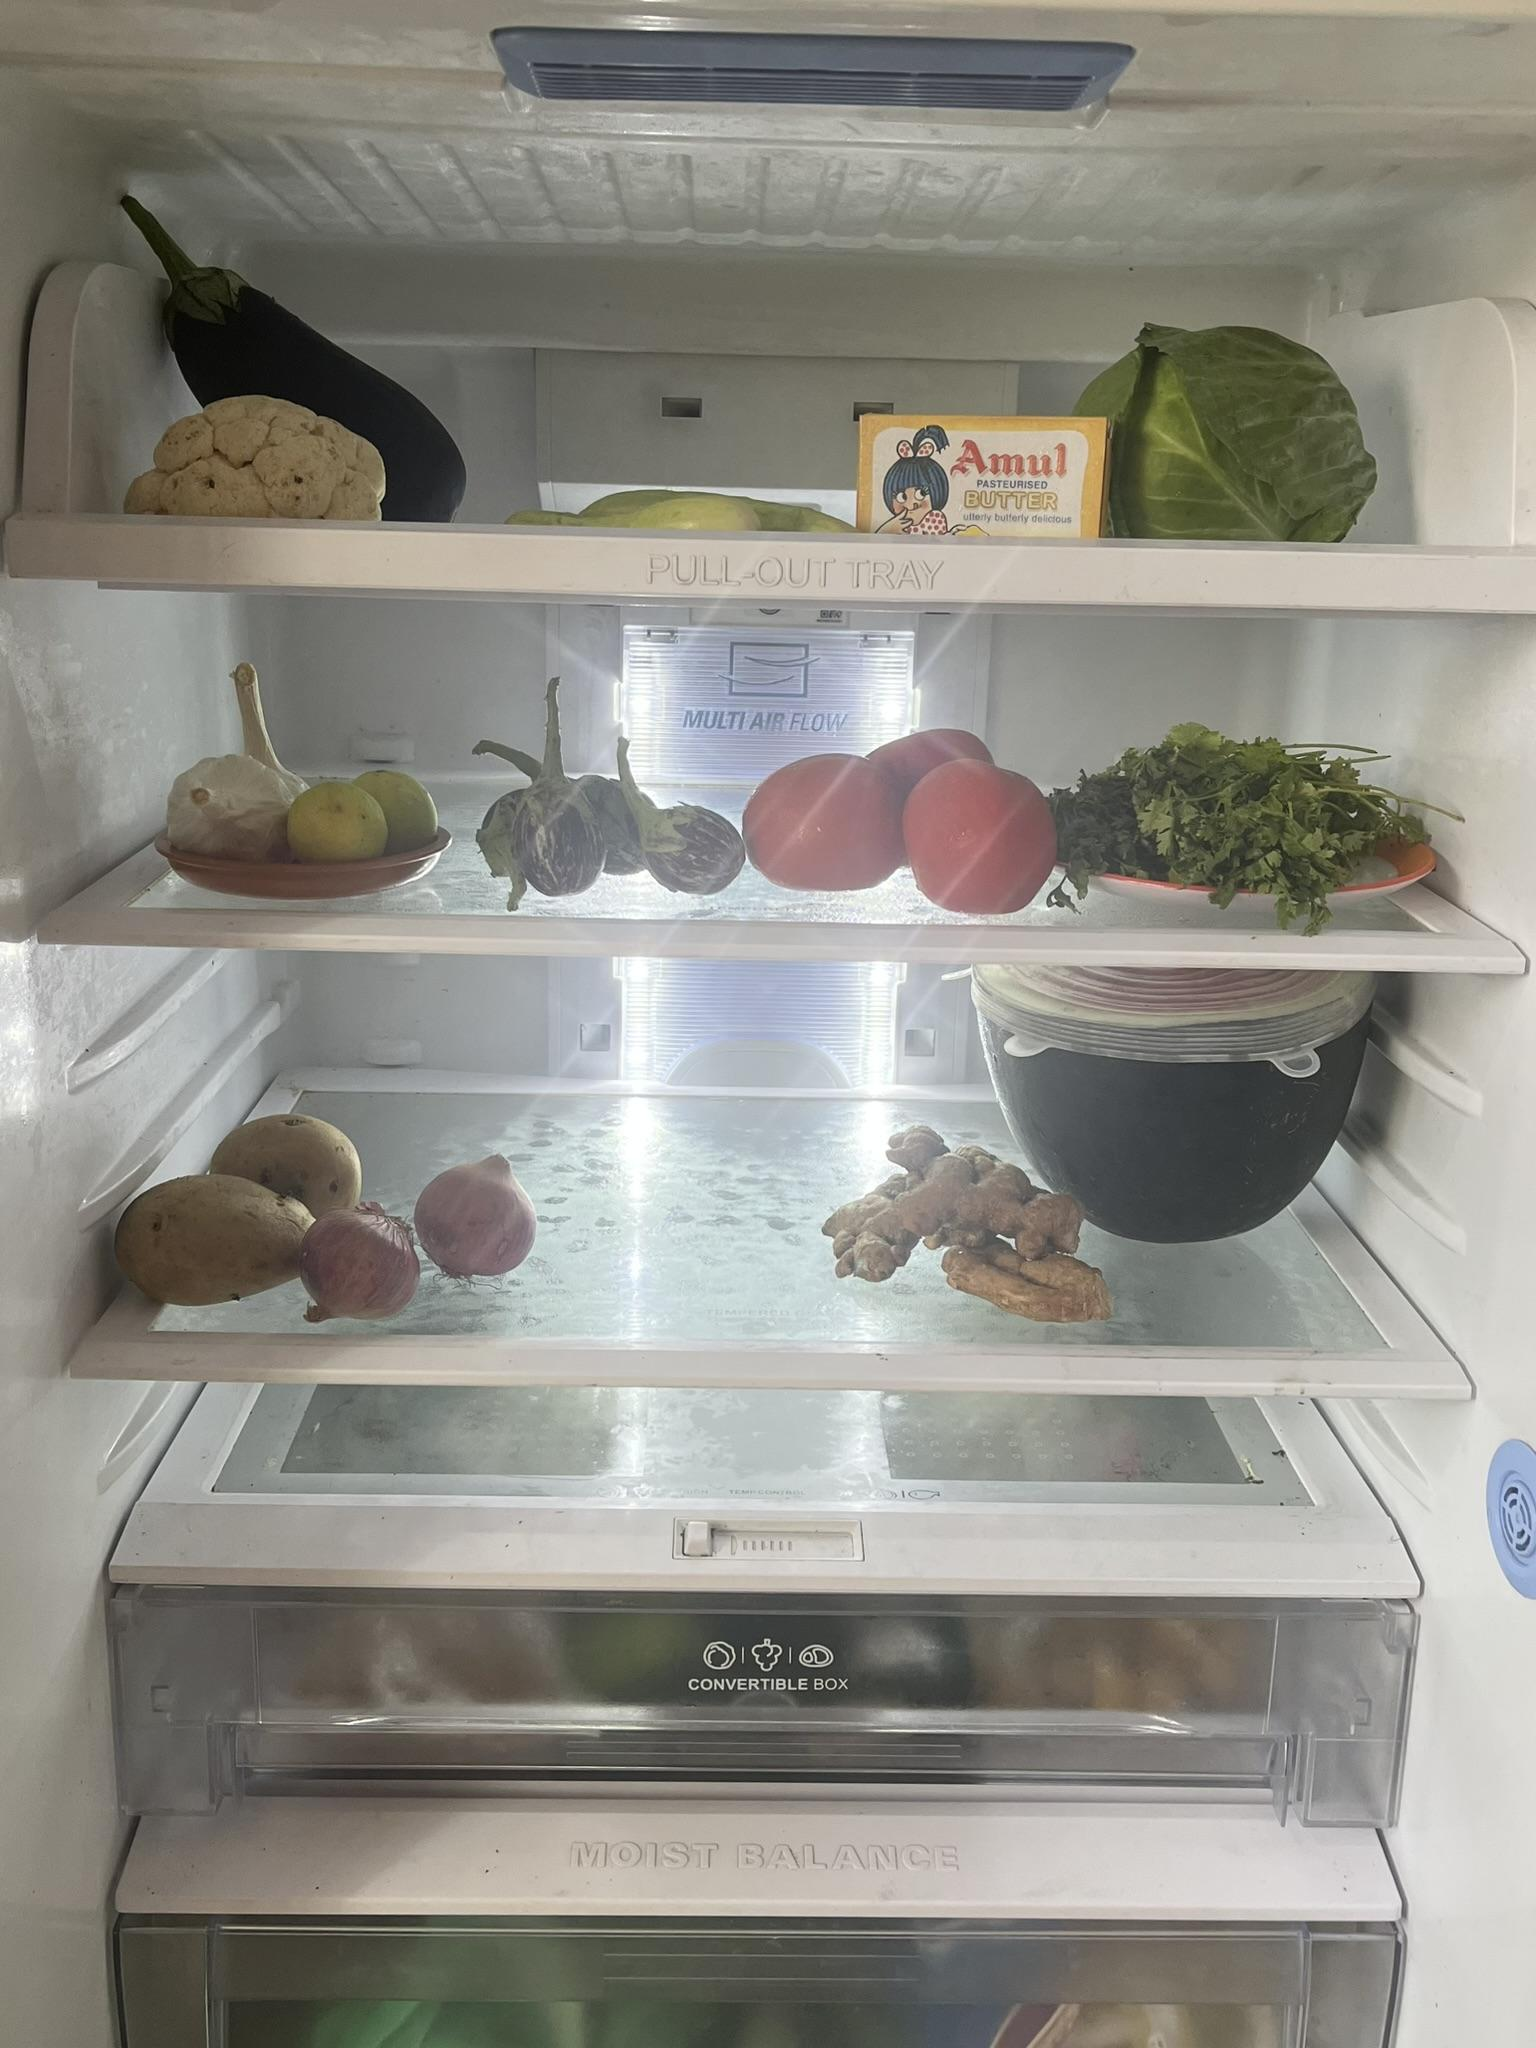bringal: (102, 202, 478, 495), (452, 697, 765, 892)
butter: (866, 411, 1097, 545)
cabbage: (1071, 321, 1363, 539)
cauliflower: (132, 392, 390, 519)
coriander: (1076, 742, 1394, 892)
garlic: (161, 682, 302, 860)
ginger: (847, 1142, 1107, 1313)
lemon: (292, 772, 431, 850)
onion: (297, 1151, 526, 1322)
potato: (127, 1101, 361, 1297)
tomato: (757, 732, 1057, 903)
watermelon: (971, 972, 1367, 1240)
